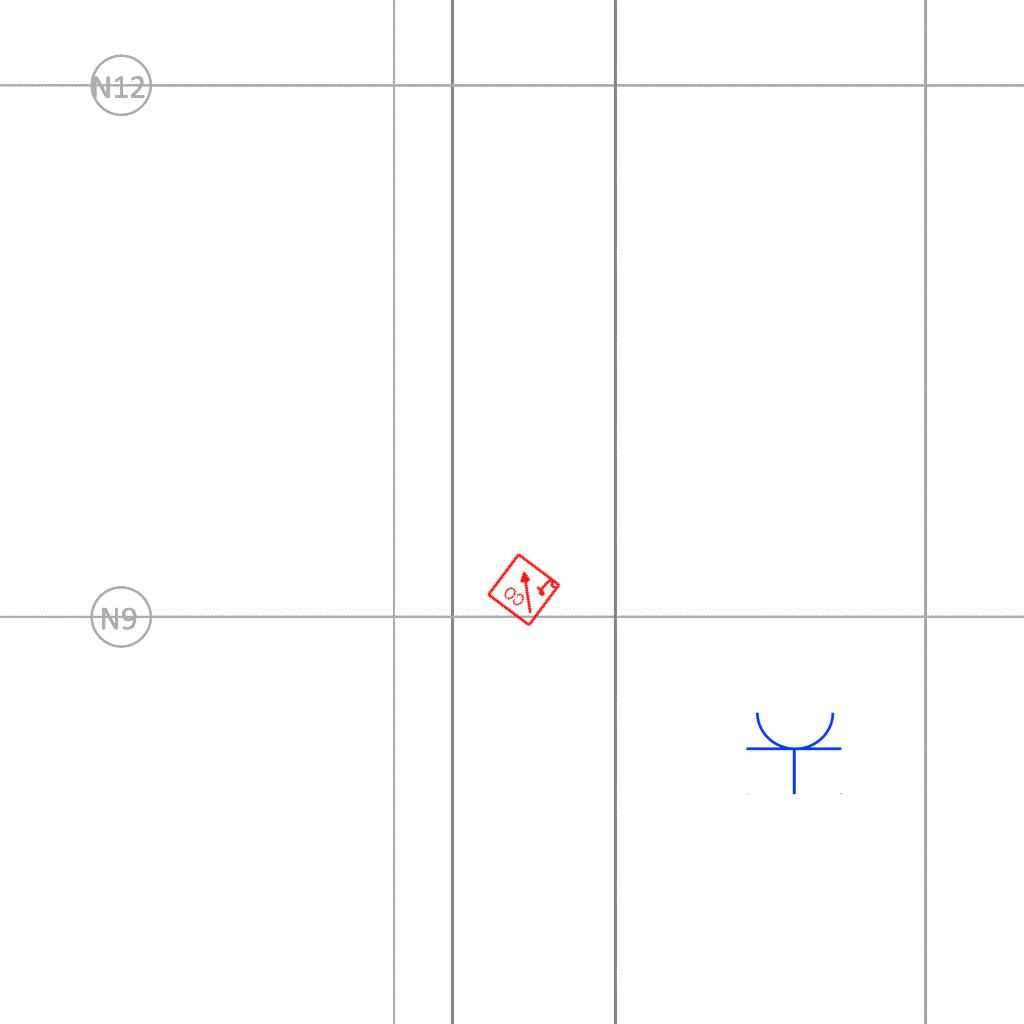ROA_Rauchmelder_optisch_mit_Signalgeber_(Sockelsirene): (484, 549, 564, 629)
Schukosteckdose_einfach: (745, 708, 845, 795)
